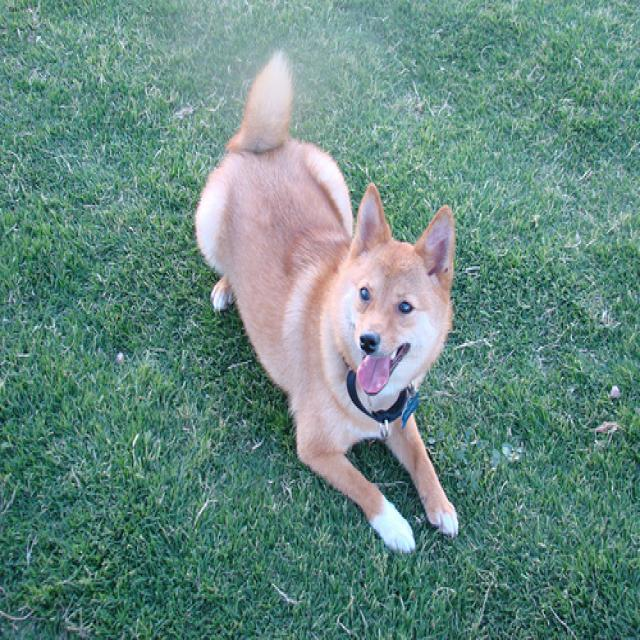dog-shiba_inu: (188, 41, 467, 568)
